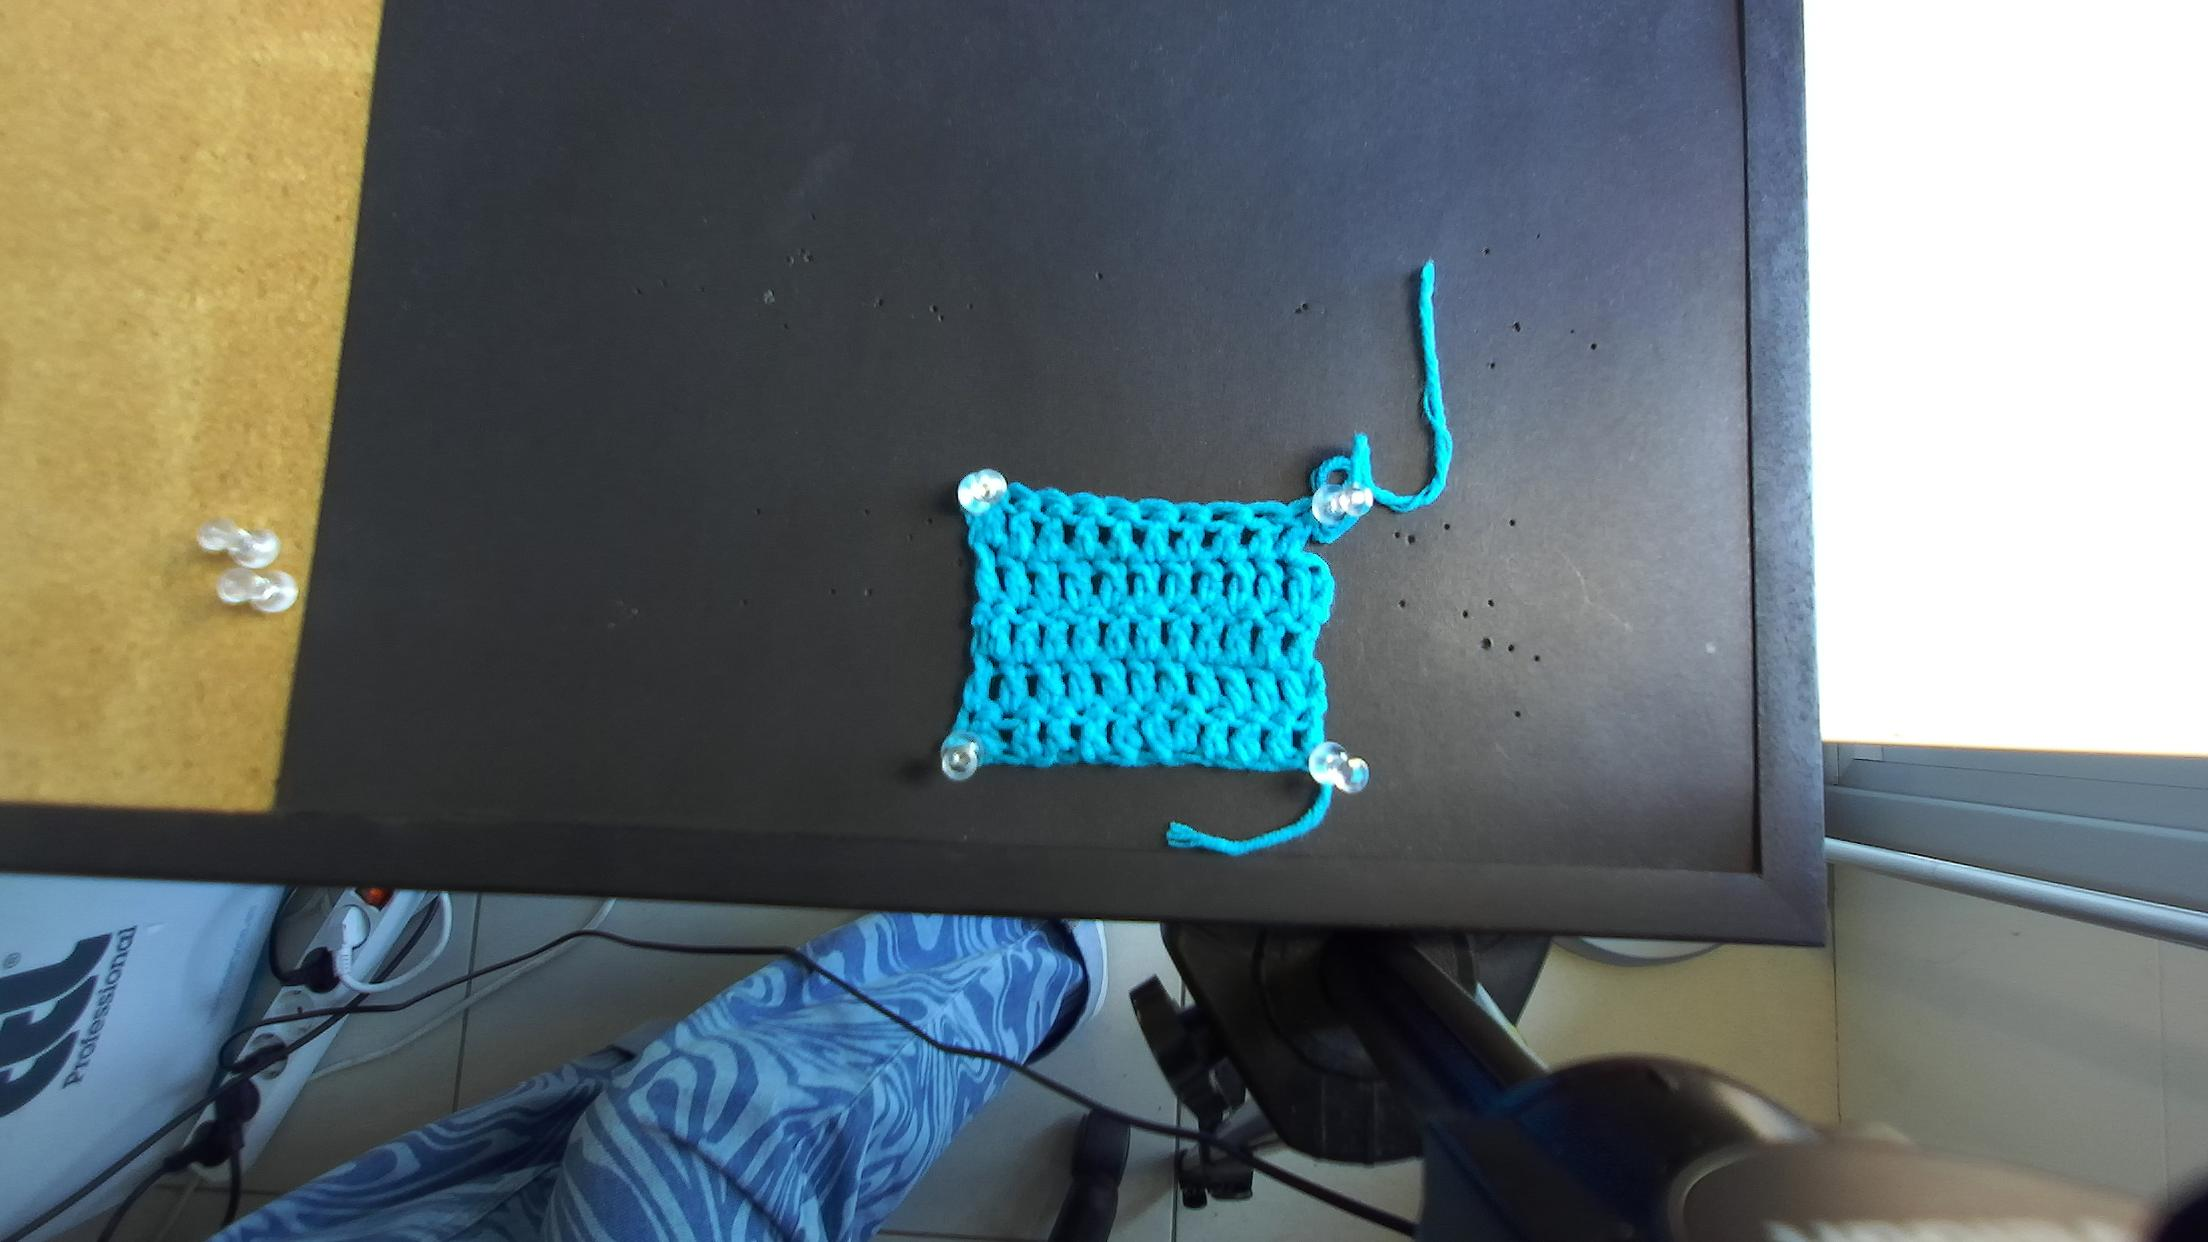hole: (1292, 506, 1312, 518), (1008, 492, 1024, 505), (1210, 511, 1229, 521), (1041, 500, 1055, 513), (1141, 509, 1156, 520), (1072, 503, 1086, 514), (1254, 511, 1275, 518), (1106, 507, 1119, 516), (1177, 512, 1188, 522)
swatch: (939, 469, 1370, 795)
